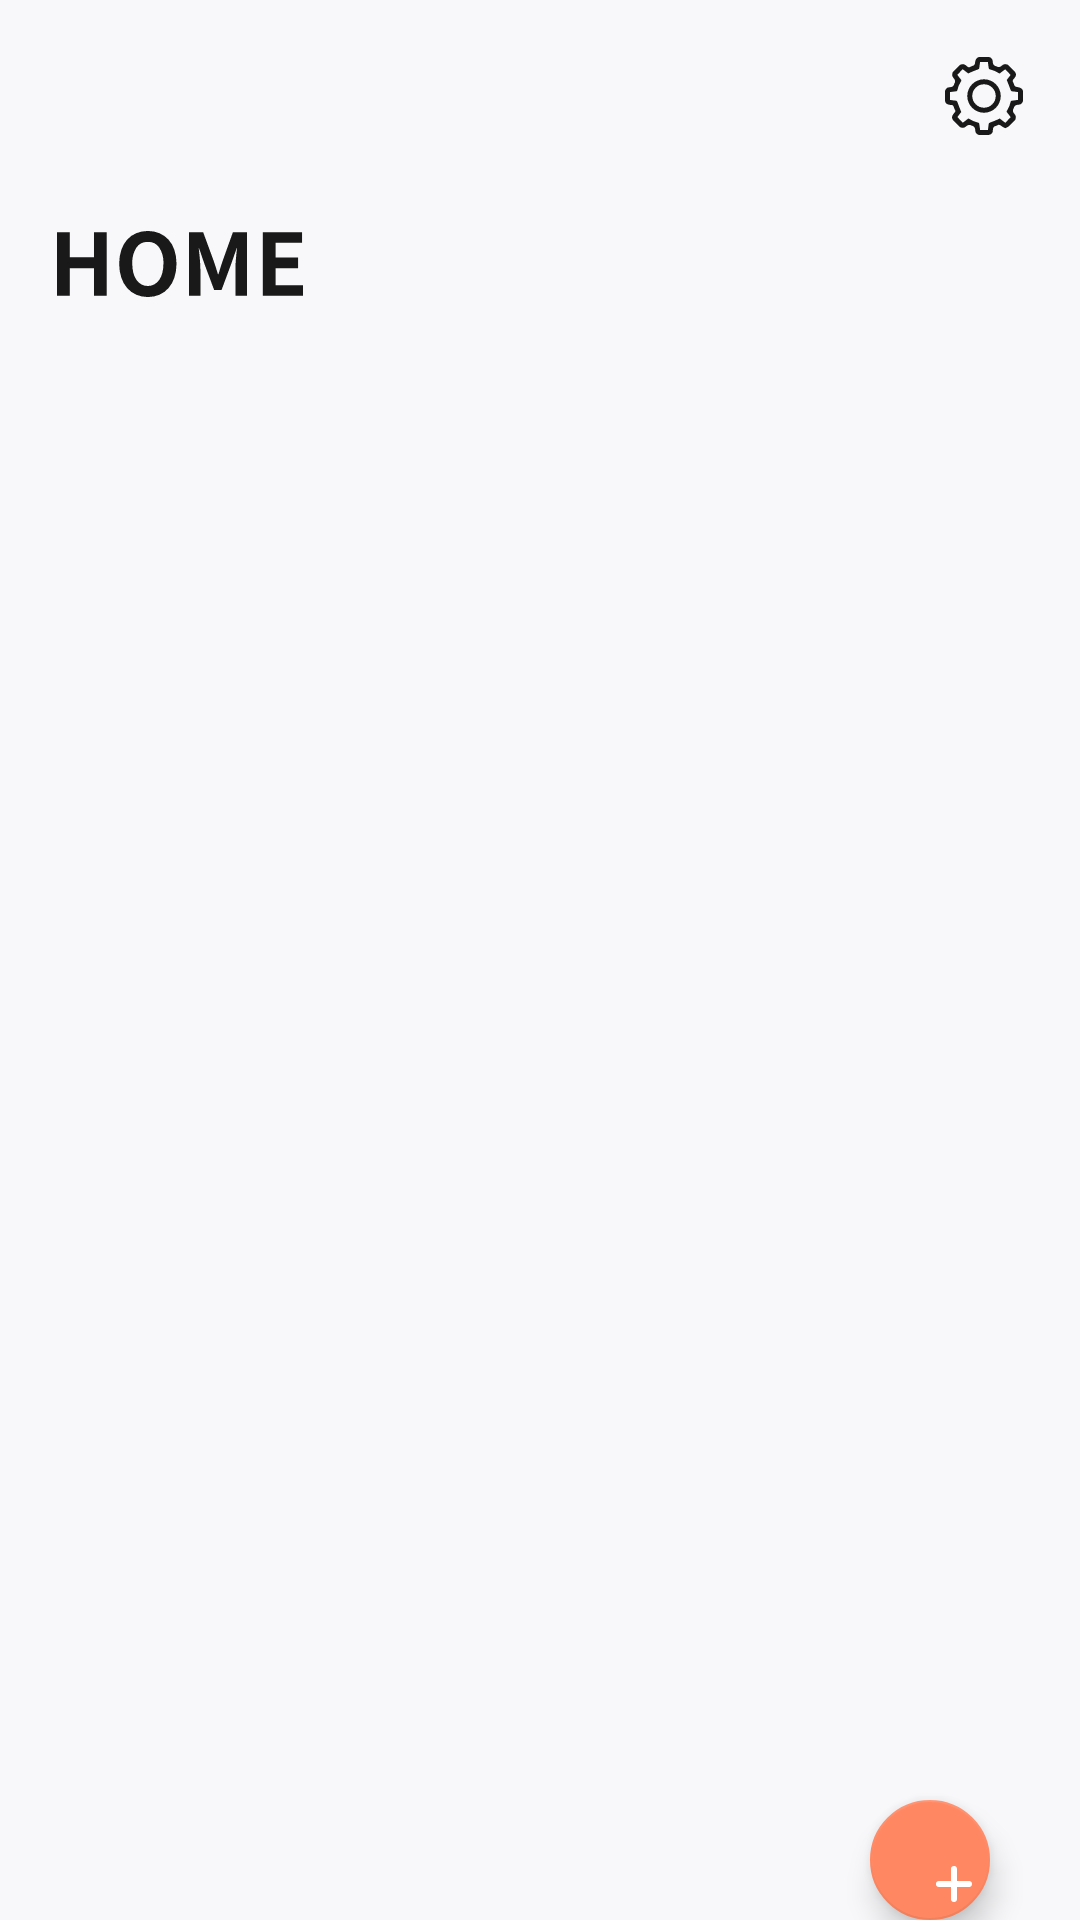

Named icons in this screenshot (1080 x 1920) and their centers, (x,y):
setting: (984,96)
